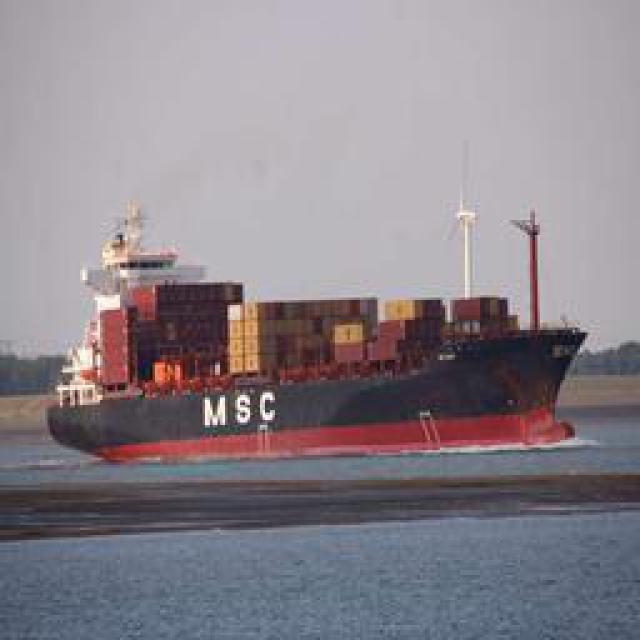Ship: (33, 199, 591, 469)
